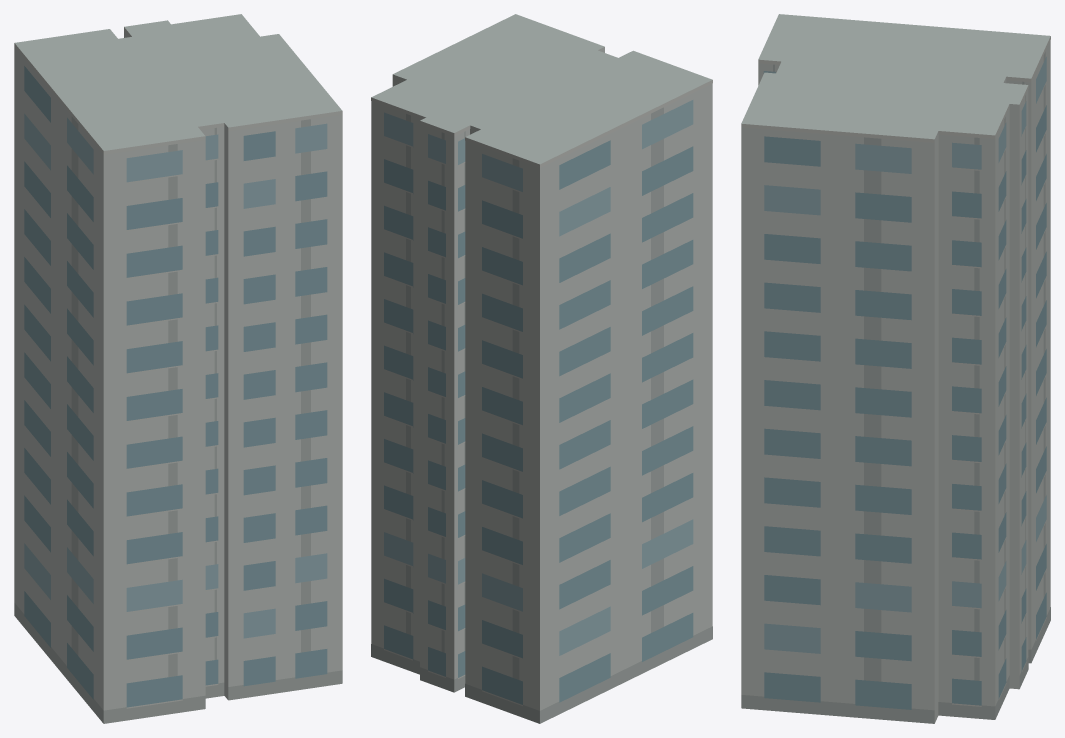
File: survey-upis-32786414.glb
3 views of the same model, side by side, from view 1: azimuth 30°, elevation 25°; view 2: azimuth 150°, elevation 25°; view 3: azimuth 270°, elevation 25° (orthographic). The views are drawn at different scales.
Visible parts, largest first — view 1: survey-upis-32786414.tmp; view 2: survey-upis-32786414.tmp; view 3: survey-upis-32786414.tmp.
Boxes of the visible parts, x1,y1,x2,y2 form: survey-upis-32786414.tmp: (14,14,342,723); survey-upis-32786414.tmp: (371,14,712,723); survey-upis-32786414.tmp: (741,14,1050,723).
Bounding box in the file's own units: 17.43 × 37.9 × 18.2.
